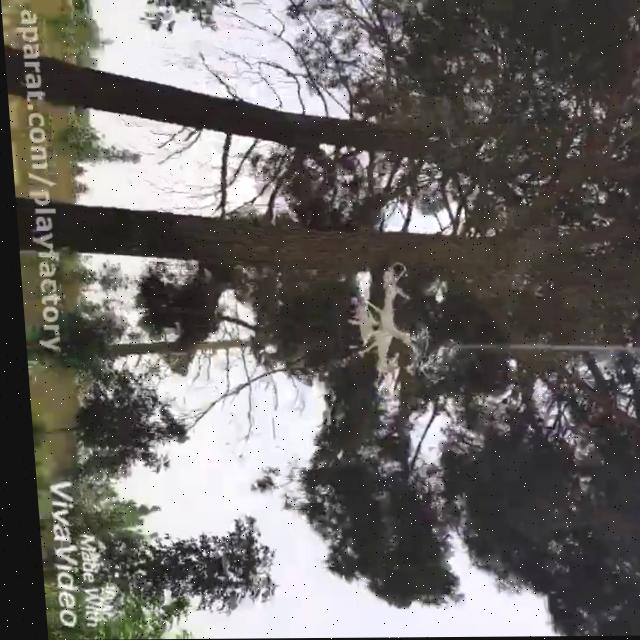drone: (346, 270, 416, 382)
